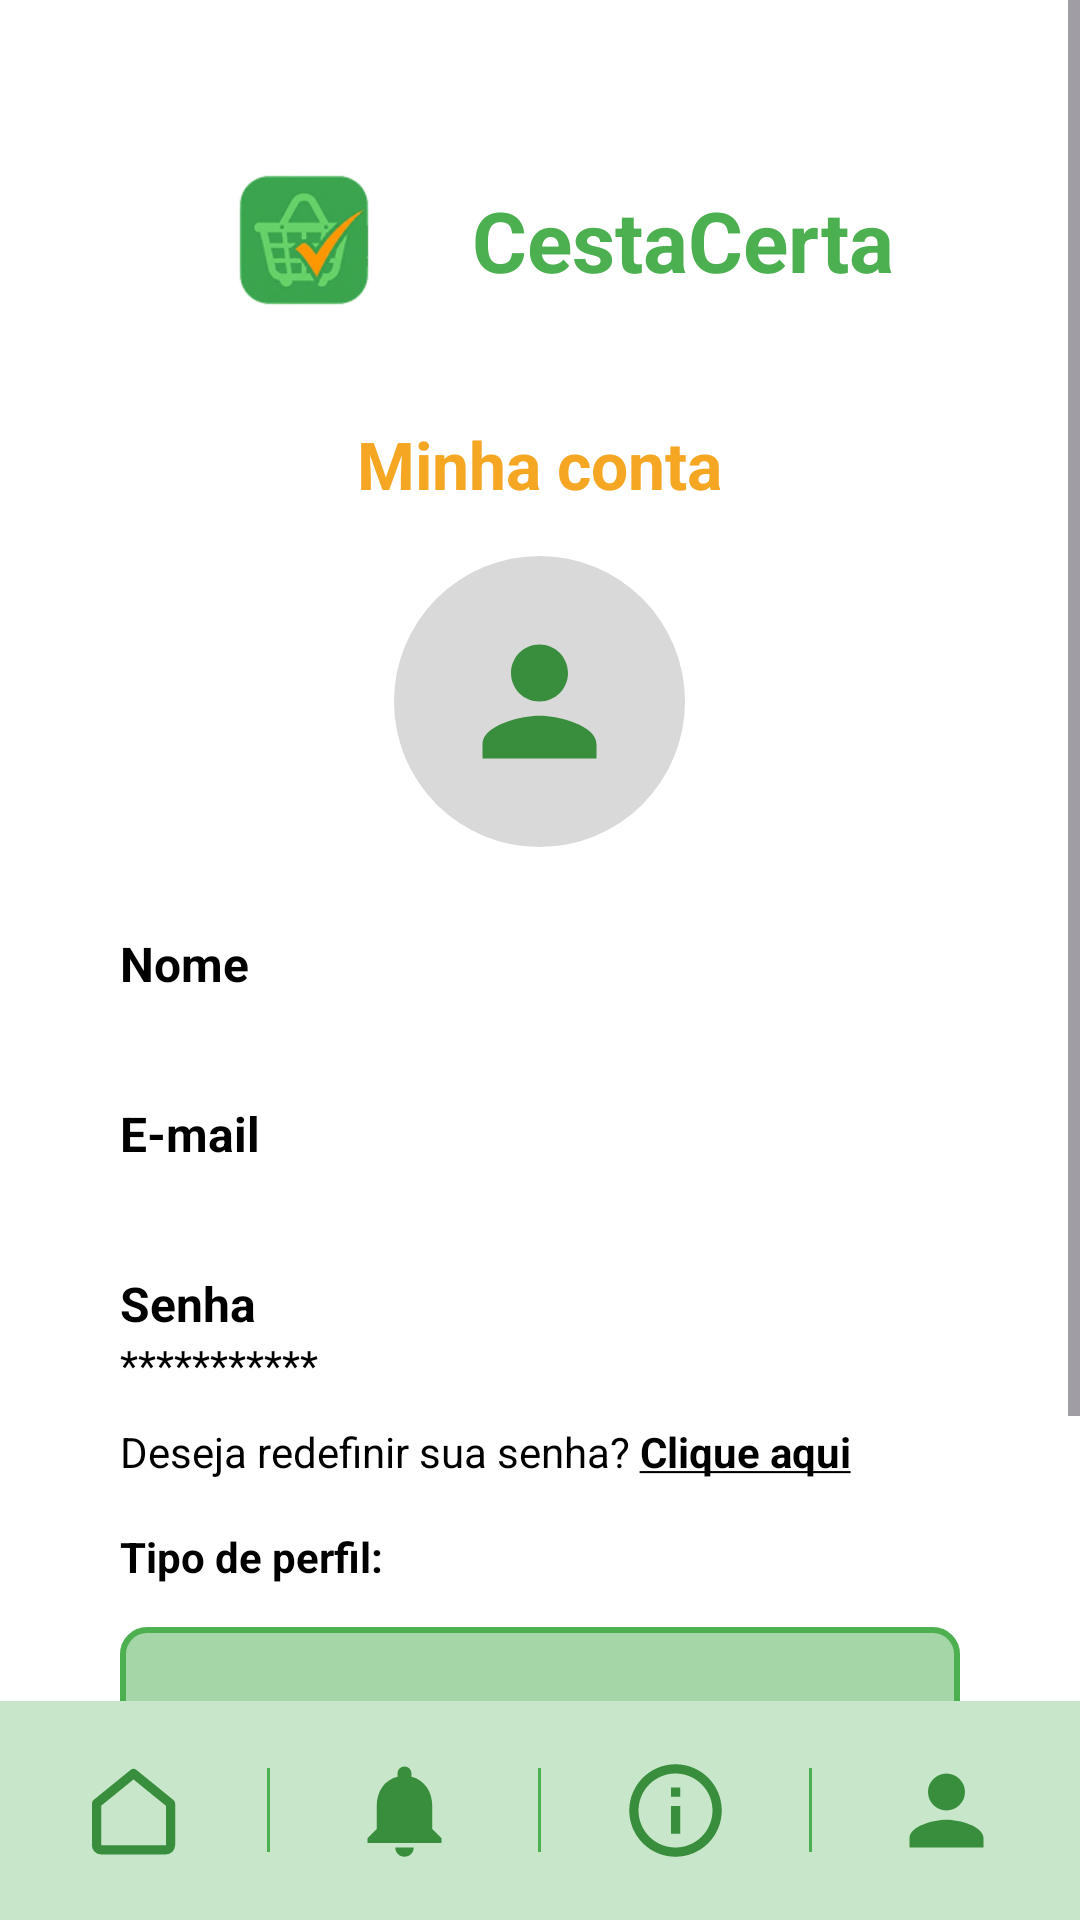

Named icons in this screenshot (1080 x 1920) and their centers, (x=x, y=y):
Foto de perfil: (x=539, y=701)
Início: (x=134, y=1811)
Notificações: (x=404, y=1811)
Sobre nós: (x=675, y=1810)
